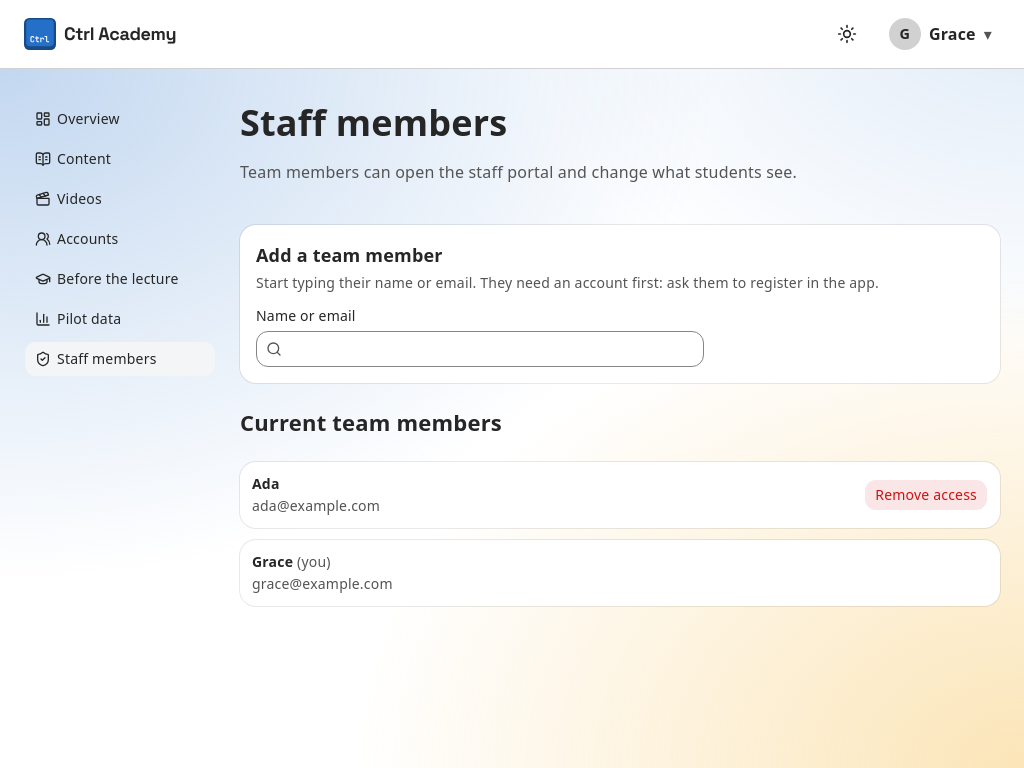
staff members page › removes access only after confirming, and can be cancelled
Click the button "Remove access".
click(926, 495)  # box [864,479,988,511]
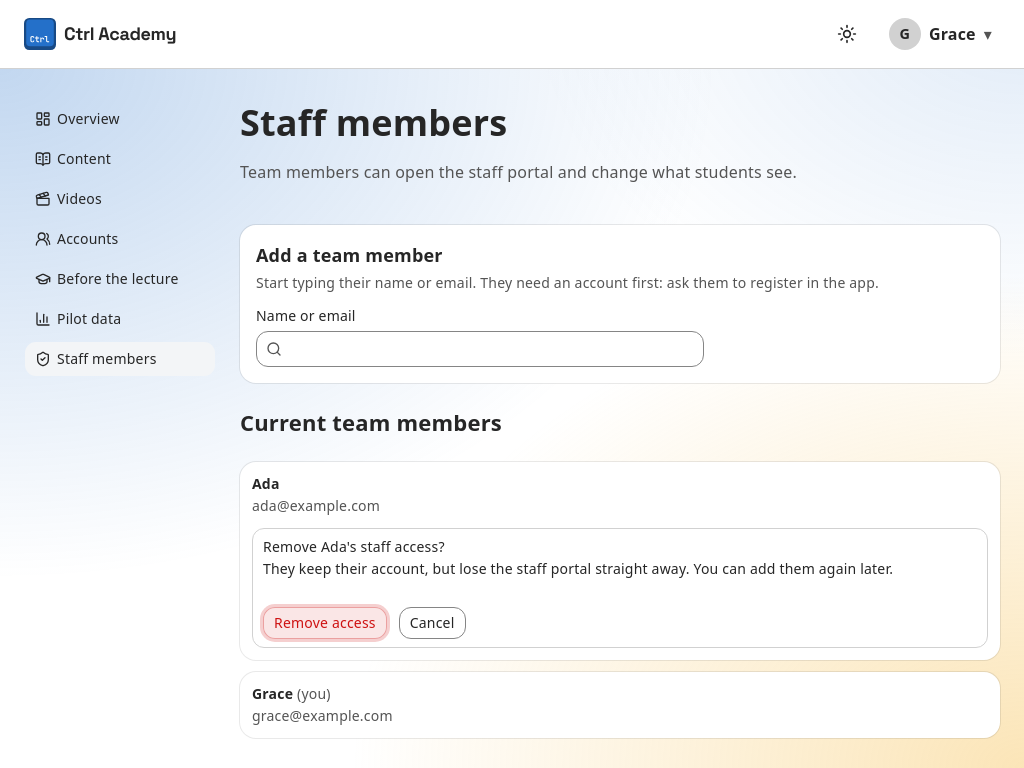
Click the button "Cancel".
click(432, 623)  # box [399,607,466,639]
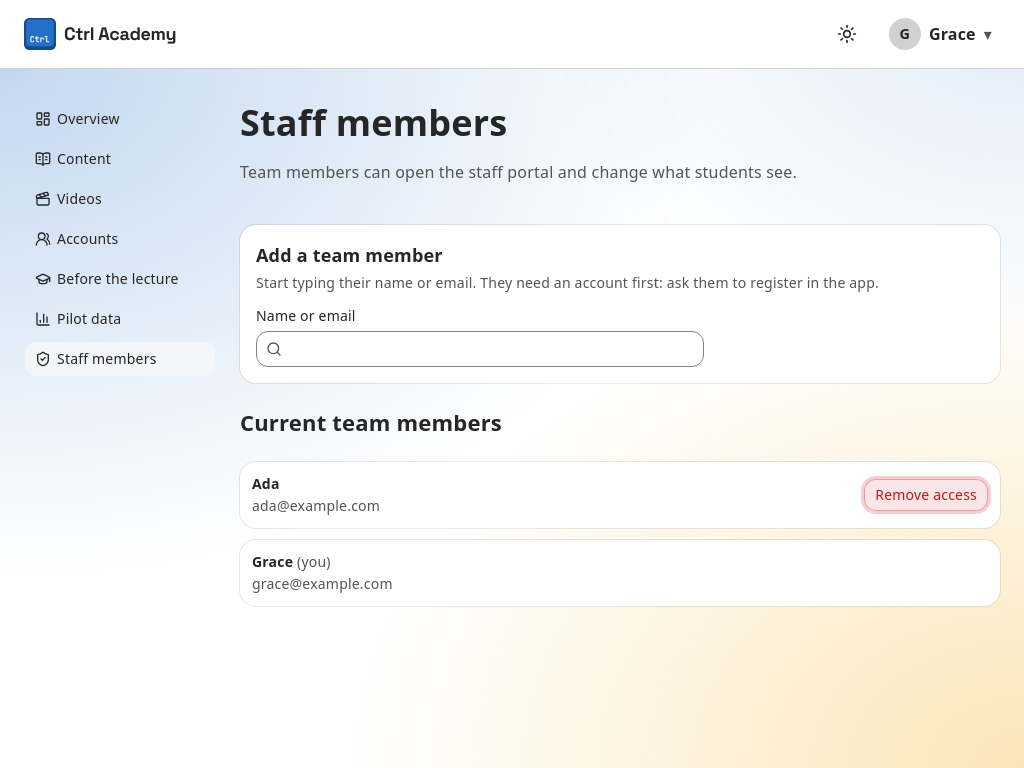
Click the button "Remove access".
click(926, 495)  # box [864,479,988,511]
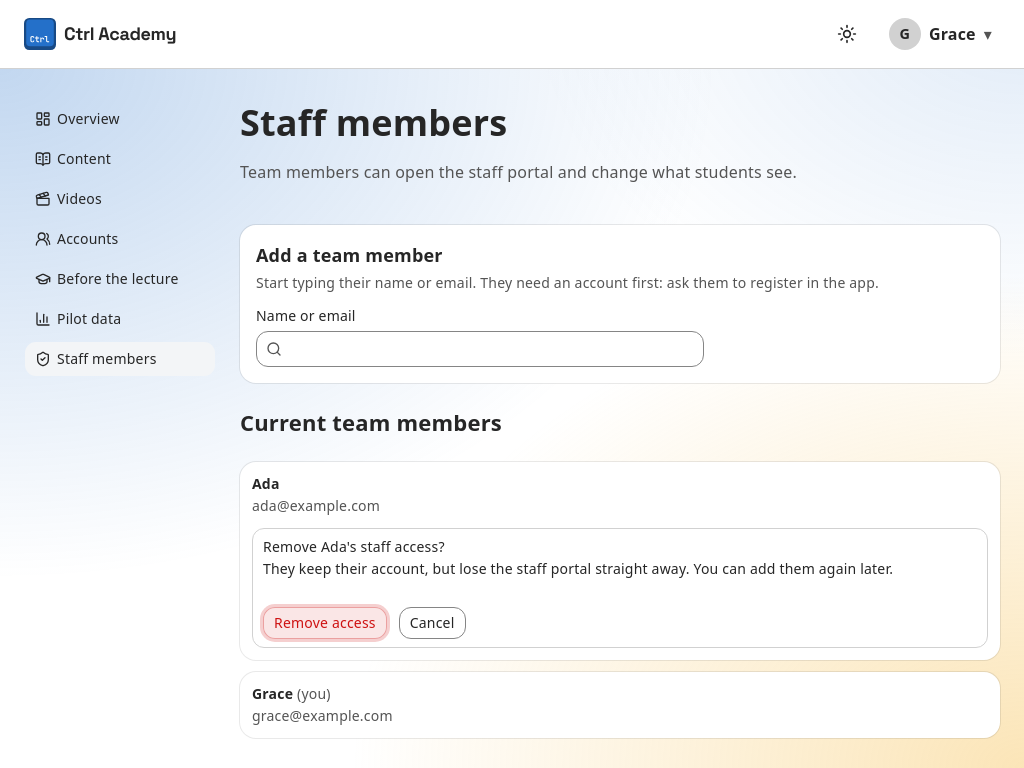
Now the text "Remove Ada's staff access?" is shown, box [263,537,445,556]
Press Escape
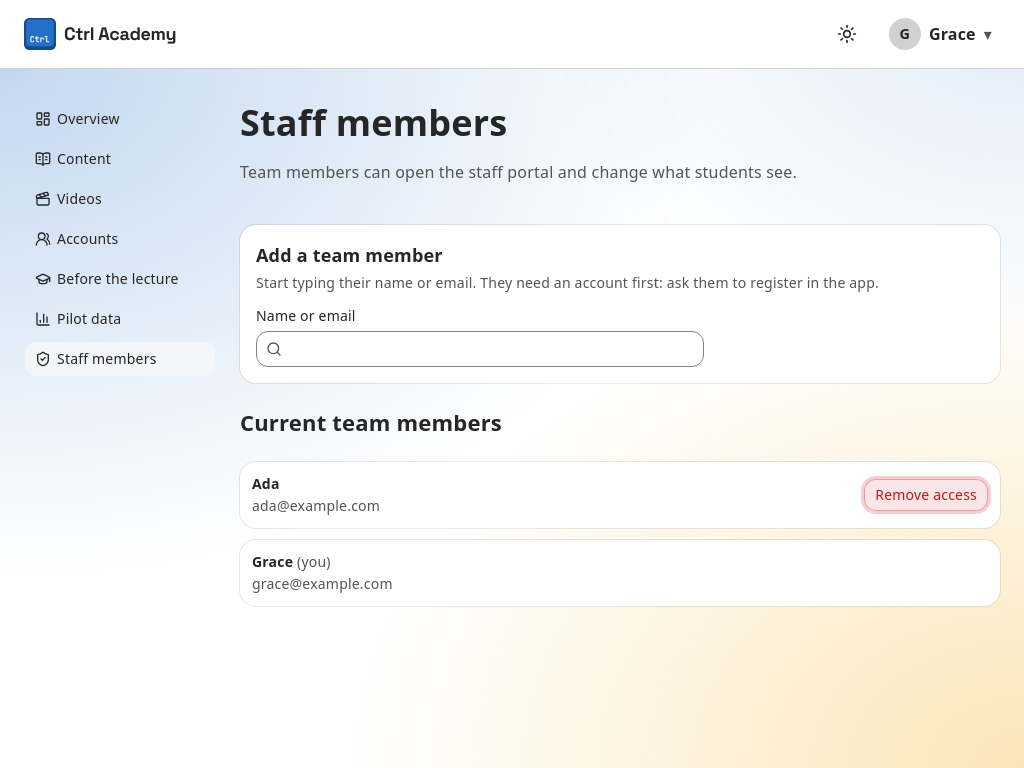
Now the text "Remove Ada's staff access?" is gone
Click the button "Remove access".
click(926, 495)  # box [864,479,988,511]
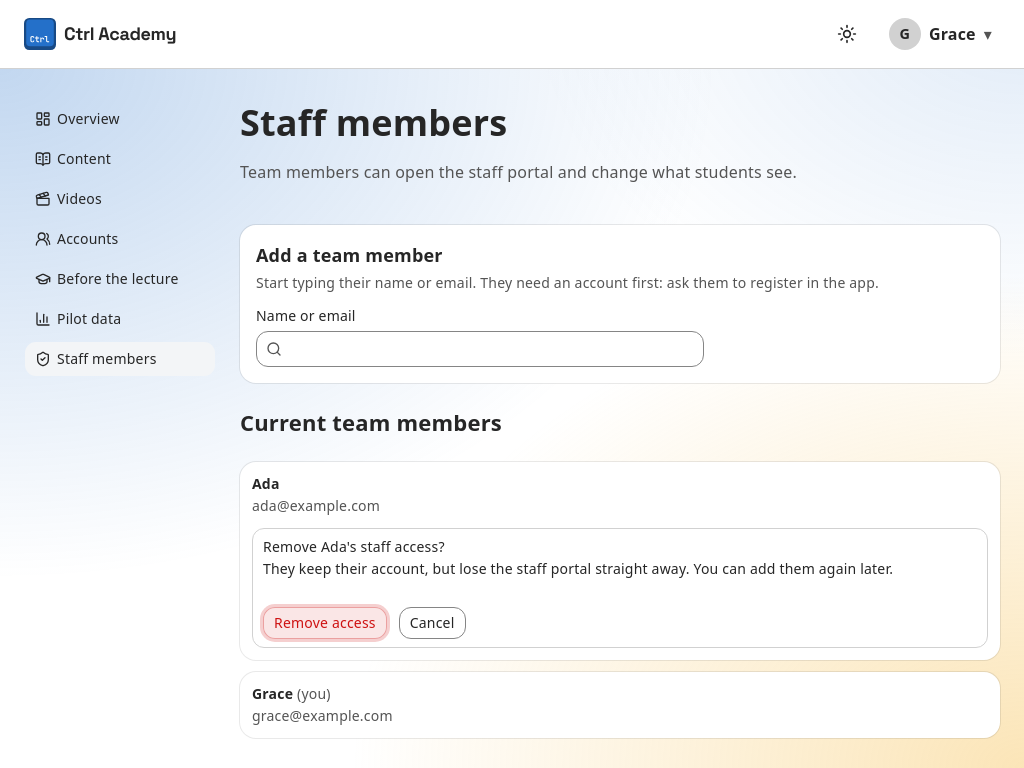
Click the button "Remove access".
click(325, 623)  # box [263,607,387,639]
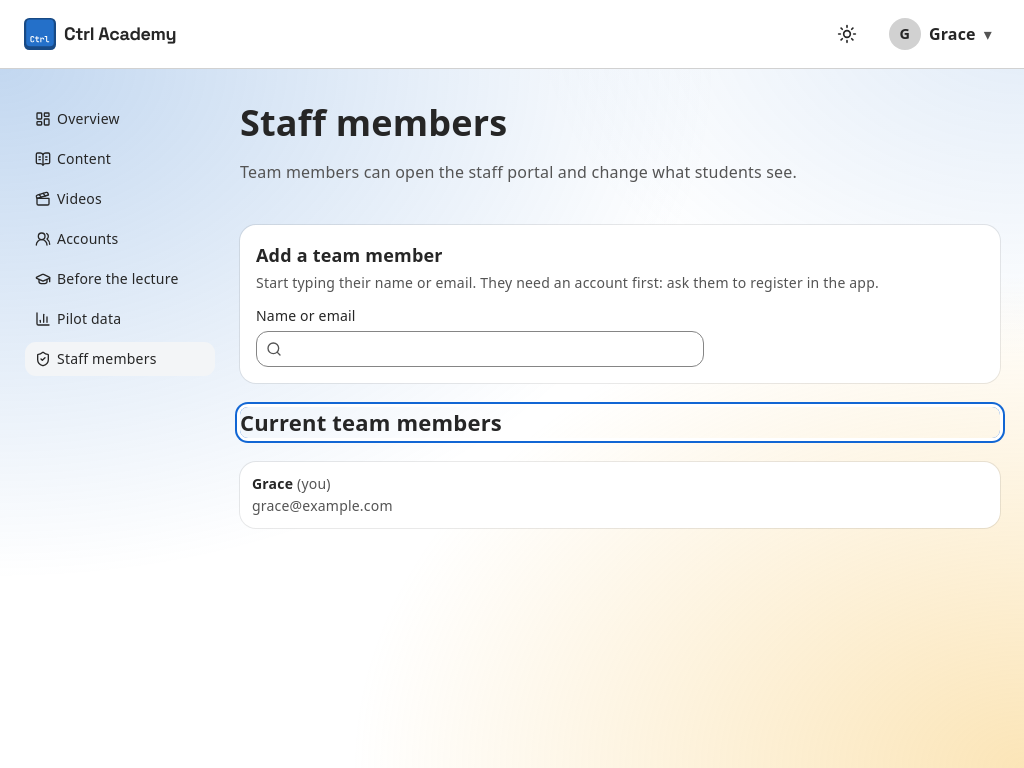
Now the text "ada@example.com" is gone
